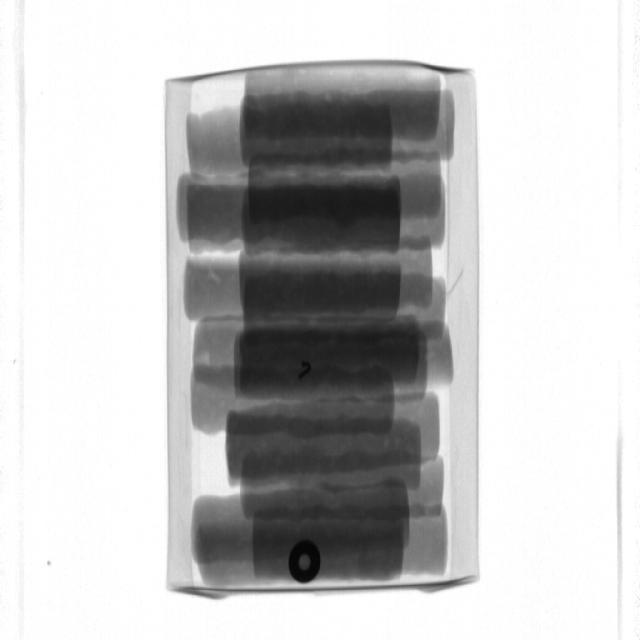ym: (290, 540, 322, 583), (301, 363, 312, 381)
